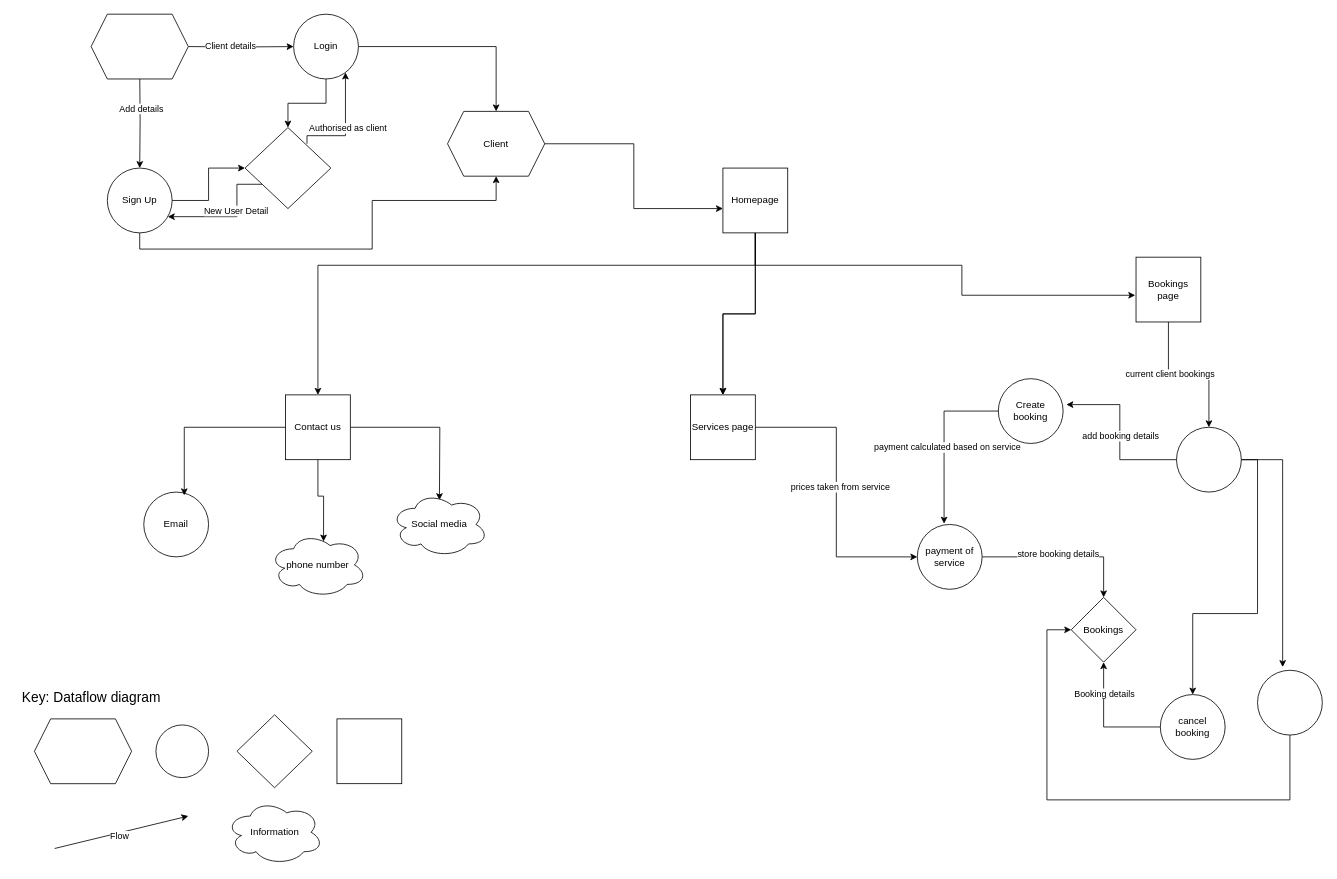
Image size: 1337x879. Some labels were removed from this diagram. The shapes that lost their labels are listed below. From the top down, each one's centre as x and y in pixels, then its label:
(139,46): Guest
(287,168): Users
(1208,459): View bookings
(1289,702): Update booking
(83,751): External Entity
(182,751): Process
(274,751): Database
(369,751): Page
